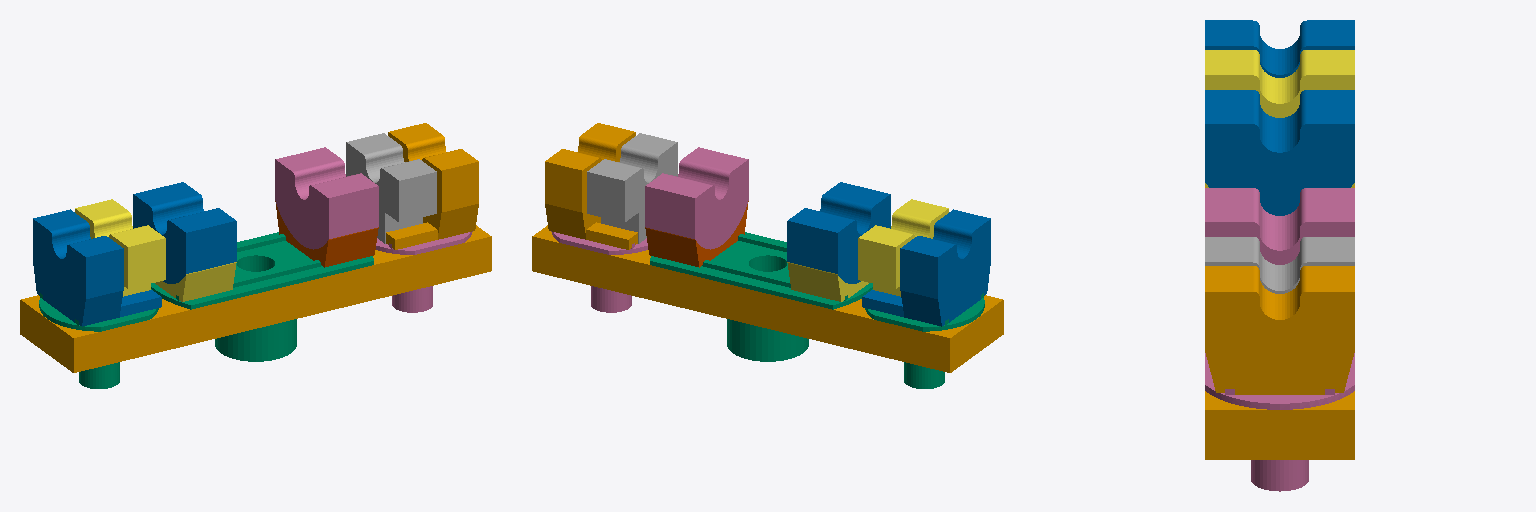
robot.urdf — handler9:
<?xml version="1.0" encoding="utf-8"?>
<!-- GENERATED by tools/handler9/gen_handler9_urdf.py - edit it, not this file. -->
<!-- EXPERIMENTAL bamboo handler from 'Bambino Kinematic Schematics.step' (docs/handler9.md). -->
<robot name="handler9">
  <link name="base_link">
    <visual name="backbone"><origin xyz="0 0 0" rpy="0 0 0"/><geometry><mesh filename="meshes/backbone.stl" scale="0.001 0.001 0.001"/></geometry></visual>
    <collision name="backbone"><origin xyz="0 0 0.04" rpy="0 0 0"/><geometry><box size="1 0.22 0.08"/></geometry></collision>
  </link>
  <joint name="handler_1_yaw" type="revolute">
    <parent link="base_link"/>
    <child link="handler_1_turntable"/>
    <origin xyz="-0.375 0 0.08" rpy="0 0 0"/>
    <axis xyz="0 0 1"/>
    <limit lower="-3.141593" upper="3.141593" effort="100" velocity="0.5"/>
  </joint>
  <link name="handler_1_turntable">
  </link>
  <joint name="handler_1_lift" type="prismatic">
    <parent link="handler_1_turntable"/>
    <child link="handler_1_carriage"/>
    <origin xyz="0 0 0.162" rpy="0 0 0"/>
    <axis xyz="0 0 1"/>
    <limit lower="0.000000" upper="0.090000" effort="100" velocity="0.5"/>
  </joint>
  <link name="handler_1_carriage">
    <visual name="handler_1_plate"><origin xyz="0 0 0" rpy="0 0 0"/><geometry><mesh filename="meshes/handler_1_plate.stl" scale="0.001 0.001 0.001"/></geometry></visual>
    <collision name="handler_1_plate"><origin xyz="0 0 -0.237" rpy="0 0 0"/><geometry><box size="0.249 0.22 0.19"/></geometry></collision>
  </link>
  <joint name="handler_1_clamp_fixed" type="fixed">
    <parent link="handler_1_carriage"/>
    <child link="handler_1_clamp"/>
    <origin xyz="0.0504 0 0" rpy="0 0 0"/>
  </joint>
  <link name="handler_1_clamp">
    <visual name="handler_1_static"><origin xyz="0 0 0" rpy="0 0 0"/><geometry><mesh filename="meshes/handler_1_static.stl" scale="0.001 0.001 0.001"/></geometry></visual>
    <collision name="handler_1_static"><origin xyz="-0 0 -0.06795" rpy="0 0 0"/><geometry><box size="0.09 0.22 0.1681"/></geometry></collision>
  </link>
  <joint name="handler_1_feed" type="prismatic">
    <parent link="handler_1_carriage"/>
    <child link="handler_1_active"/>
    <origin xyz="-0.0504 0 0" rpy="0 0 0"/>
    <axis xyz="1 0 0"/>
    <limit lower="-0.095000" upper="0.000000" effort="100" velocity="0.5"/>
  </joint>
  <link name="handler_1_active">
    <visual name="handler_1_active"><origin xyz="0 0 0" rpy="0 0 0"/><geometry><mesh filename="meshes/handler_1_active.stl" scale="0.001 0.001 0.001"/></geometry></visual>
    <collision name="handler_1_active"><origin xyz="0.0504 0 -0.06795" rpy="0 0 0"/><geometry><box size="0.19079 0.22 0.1681"/></geometry></collision>
  </link>
  <joint name="handler_2_yaw" type="revolute">
    <parent link="base_link"/>
    <child link="handler_2_turntable"/>
    <origin xyz="0.375 0 0.08" rpy="0 0 0"/>
    <axis xyz="0 0 1"/>
    <limit lower="-3.141593" upper="3.141593" effort="100" velocity="0.5"/>
  </joint>
  <link name="handler_2_turntable">
  </link>
  <joint name="handler_2_lift" type="prismatic">
    <parent link="handler_2_turntable"/>
    <child link="handler_2_carriage"/>
    <origin xyz="0 0 0.162" rpy="0 0 0"/>
    <axis xyz="0 0 1"/>
    <limit lower="0.000000" upper="0.090000" effort="100" velocity="0.5"/>
  </joint>
  <link name="handler_2_carriage">
    <visual name="handler_2_plate"><origin xyz="0 0 0" rpy="0 0 0"/><geometry><mesh filename="meshes/handler_2_plate.stl" scale="0.001 0.001 0.001"/></geometry></visual>
    <collision name="handler_2_plate"><origin xyz="0 0 -0.237" rpy="0 0 0"/><geometry><box size="0.249 0.22 0.19"/></geometry></collision>
  </link>
  <joint name="handler_2_clamp_fixed" type="fixed">
    <parent link="handler_2_carriage"/>
    <child link="handler_2_clamp"/>
    <origin xyz="-0.0504 0 0" rpy="0 0 0"/>
  </joint>
  <link name="handler_2_clamp">
    <visual name="handler_2_static"><origin xyz="0 0 0" rpy="0 0 0"/><geometry><mesh filename="meshes/handler_2_static.stl" scale="0.001 0.001 0.001"/></geometry></visual>
    <collision name="handler_2_static"><origin xyz="0 0 -0.06795" rpy="0 0 0"/><geometry><box size="0.09 0.22 0.1681"/></geometry></collision>
  </link>
  <joint name="handler_2_feed" type="prismatic">
    <parent link="handler_2_carriage"/>
    <child link="handler_2_active"/>
    <origin xyz="0.0504 0 0" rpy="0 0 0"/>
    <axis xyz="1 0 0"/>
    <limit lower="0.000000" upper="0.095000" effort="100" velocity="0.5"/>
  </joint>
  <link name="handler_2_active">
    <visual name="handler_2_active"><origin xyz="0 0 0" rpy="0 0 0"/><geometry><mesh filename="meshes/handler_2_active.stl" scale="0.001 0.001 0.001"/></geometry></visual>
    <collision name="handler_2_active"><origin xyz="-0.0504 0 -0.06795" rpy="0 0 0"/><geometry><box size="0.19079 0.22 0.1681"/></geometry></collision>
  </link>
  <joint name="main_clamp_yaw" type="revolute">
    <parent link="base_link"/>
    <child link="main_clamp_turntable"/>
    <origin xyz="0 0 0.08" rpy="0 0 0"/>
    <axis xyz="0 0 1"/>
    <limit lower="-3.141593" upper="3.141593" effort="100" velocity="0.5"/>
  </joint>
  <link name="main_clamp_turntable">
  </link>
  <joint name="main_clamp_lift" type="prismatic">
    <parent link="main_clamp_turntable"/>
    <child link="main_clamp_carriage"/>
    <origin xyz="0 0 0.162" rpy="0 0 0"/>
    <axis xyz="0 0 1"/>
    <limit lower="0.000000" upper="0.095000" effort="100" velocity="0.5"/>
  </joint>
  <link name="main_clamp_carriage">
    <visual name="main_clamp_plate"><origin xyz="0 0 0" rpy="0 0 0"/><geometry><mesh filename="meshes/main_clamp_plate.stl" scale="0.001 0.001 0.001"/></geometry></visual>
    <collision name="main_clamp_plate"><origin xyz="0 0 -0.2395" rpy="0 0 0"/><geometry><box size="0.48956 0.22 0.195"/></geometry></collision>
  </link>
  <joint name="main_clamp_blue_slide" type="prismatic">
    <parent link="main_clamp_carriage"/>
    <child link="main_clamp_blue_sled"/>
    <origin xyz="-0.17 0 0" rpy="0 0 0"/>
    <axis xyz="1 0 0"/>
    <limit lower="0.000000" upper="0.110000" effort="100" velocity="0.5"/>
  </joint>
  <link name="main_clamp_blue_sled">
    <visual name="main_clamp_blue_translation"><origin xyz="0 0 0" rpy="0 0 0"/><geometry><mesh filename="meshes/main_clamp_blue_translation.stl" scale="0.001 0.001 0.001"/></geometry></visual>
    <collision name="main_clamp_blue_translation"><origin xyz="0 0 -0.11513" rpy="0 0 0"/><geometry><box size="0.12 0.22 0.07374"/></geometry></collision>
  </link>
  <joint name="main_clamp_blue_roll" type="revolute">
    <parent link="main_clamp_blue_sled"/>
    <child link="main_clamp_blue"/>
    <origin xyz="0 0 0" rpy="0 0 0"/>
    <axis xyz="1 0 0"/>
    <limit lower="-0.698132" upper="0.698132" effort="100" velocity="0.5"/>
  </joint>
  <link name="main_clamp_blue">
    <visual name="main_clamp_blue_rotation"><origin xyz="0 0 0" rpy="0 0 0"/><geometry><mesh filename="meshes/main_clamp_blue_rotation.stl" scale="0.001 0.001 0.001"/></geometry></visual>
    <collision name="main_clamp_blue_rotation"><origin xyz="0 0 -0.05945" rpy="0 0 0"/><geometry><box size="0.12 0.22 0.1511"/></geometry></collision>
  </link>
  <joint name="main_clamp_yellow_slide" type="prismatic">
    <parent link="main_clamp_carriage"/>
    <child link="main_clamp_yellow_sled"/>
    <origin xyz="0.17 0 0" rpy="0 0 0"/>
    <axis xyz="1 0 0"/>
    <limit lower="-0.110000" upper="0.000000" effort="100" velocity="0.5"/>
    <mimic joint="main_clamp_blue_slide" multiplier="-1" offset="0"/>
  </joint>
  <link name="main_clamp_yellow_sled">
    <visual name="main_clamp_yellow_translation"><origin xyz="0 0 0" rpy="0 0 0"/><geometry><mesh filename="meshes/main_clamp_yellow_translation.stl" scale="0.001 0.001 0.001"/></geometry></visual>
    <collision name="main_clamp_yellow_translation"><origin xyz="0 0 -0.11513" rpy="0 0 0"/><geometry><box size="0.12 0.22 0.07374"/></geometry></collision>
  </link>
  <joint name="main_clamp_yellow_roll" type="revolute">
    <parent link="main_clamp_yellow_sled"/>
    <child link="main_clamp_yellow"/>
    <origin xyz="0 0 0" rpy="0 0 0"/>
    <axis xyz="1 0 0"/>
    <limit lower="-0.698132" upper="0.698132" effort="100" velocity="0.5"/>
    <mimic joint="main_clamp_blue_roll" multiplier="1" offset="0"/>
  </joint>
  <link name="main_clamp_yellow">
    <visual name="main_clamp_yellow_rotation"><origin xyz="0 0 0" rpy="0 0 0"/><geometry><mesh filename="meshes/main_clamp_yellow_rotation.stl" scale="0.001 0.001 0.001"/></geometry></visual>
    <collision name="main_clamp_yellow_rotation"><origin xyz="0 0 -0.05945" rpy="0 0 0"/><geometry><box size="0.12 0.22 0.1511"/></geometry></collision>
  </link>
</robot>

--- Render facts (derived) ---
The picture shows the robot from 3 angles, left to right: view 1: azimuth 30°, elevation 25°; view 2: azimuth 150°, elevation 25°; view 3: azimuth 270°, elevation 25°; orthographic projection.
Robot: handler9 — 15 links, 14 joints (5 revolute, 7 prismatic, 2 fixed); root link base_link; default pose: every joint at zero.
Visible links, largest first — view 1: base_link, handler_1_active, main_clamp_yellow, main_clamp_carriage, main_clamp_blue, handler_2_active, handler_2_clamp, handler_1_clamp, handler_1_carriage, main_clamp_yellow_sled, main_clamp_blue_sled, handler_2_carriage; view 2: base_link, handler_1_active, main_clamp_yellow, main_clamp_carriage, main_clamp_blue, handler_2_active, handler_2_clamp, handler_1_clamp, handler_1_carriage, main_clamp_yellow_sled, main_clamp_blue_sled, handler_2_carriage; view 3: handler_2_active, main_clamp_blue, base_link, main_clamp_yellow, handler_1_clamp, handler_1_active, handler_2_clamp, handler_2_carriage.
Boxes of the visible links, x1=… form: base_link: x1=20, y1=225, x2=491, y2=372; handler_1_active: x1=33, y1=209, x2=161, y2=326; main_clamp_yellow: x1=275, y1=147, x2=378, y2=249; main_clamp_carriage: x1=151, y1=232, x2=373, y2=361; main_clamp_blue: x1=133, y1=182, x2=236, y2=283; handler_2_active: x1=386, y1=123, x2=478, y2=249; handler_2_clamp: x1=346, y1=133, x2=436, y2=243; handler_1_clamp: x1=75, y1=199, x2=165, y2=296; handler_1_carriage: x1=39, y1=289, x2=158, y2=388; main_clamp_yellow_sled: x1=275, y1=201, x2=378, y2=267; main_clamp_blue_sled: x1=155, y1=262, x2=236, y2=301; handler_2_carriage: x1=376, y1=231, x2=472, y2=312; base_link: x1=532, y1=225, x2=1003, y2=372; handler_1_active: x1=862, y1=209, x2=990, y2=326; main_clamp_yellow: x1=645, y1=147, x2=748, y2=249; main_clamp_carriage: x1=650, y1=232, x2=872, y2=361; main_clamp_blue: x1=787, y1=182, x2=890, y2=283; handler_2_active: x1=545, y1=123, x2=637, y2=249; handler_2_clamp: x1=587, y1=133, x2=677, y2=243; handler_1_clamp: x1=858, y1=199, x2=948, y2=296; handler_1_carriage: x1=865, y1=289, x2=984, y2=388; main_clamp_yellow_sled: x1=645, y1=201, x2=748, y2=267; main_clamp_blue_sled: x1=787, y1=262, x2=868, y2=301; handler_2_carriage: x1=551, y1=231, x2=647, y2=312; handler_2_active: x1=1205, y1=266, x2=1354, y2=394; main_clamp_blue: x1=1205, y1=90, x2=1354, y2=215; base_link: x1=1205, y1=186, x2=1354, y2=459; main_clamp_yellow: x1=1205, y1=188, x2=1354, y2=264; handler_1_clamp: x1=1205, y1=50, x2=1354, y2=117; handler_1_active: x1=1205, y1=20, x2=1354, y2=77; handler_2_clamp: x1=1205, y1=237, x2=1354, y2=293; handler_2_carriage: x1=1205, y1=353, x2=1354, y2=491.
Bounding box of the posed robot: 1 × 0.22 × 0.3531 m (x, y, z).
12 mesh visuals loaded from 12 distinct referenced files (12 binary STL).
